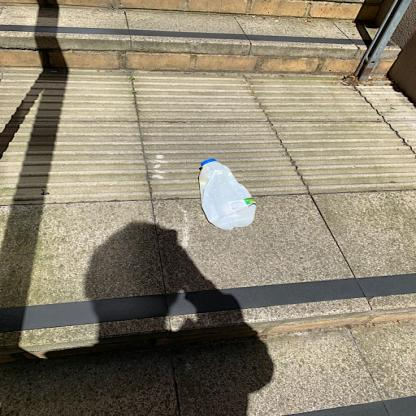trash: (195, 157, 258, 233)
